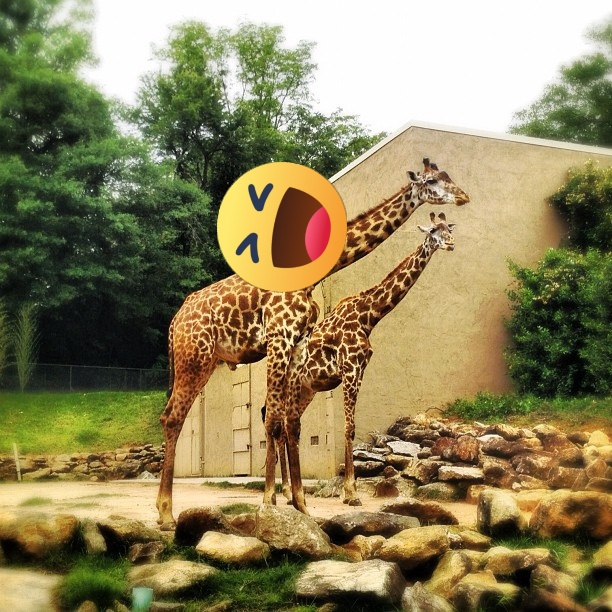haha: (217, 162, 347, 292)
